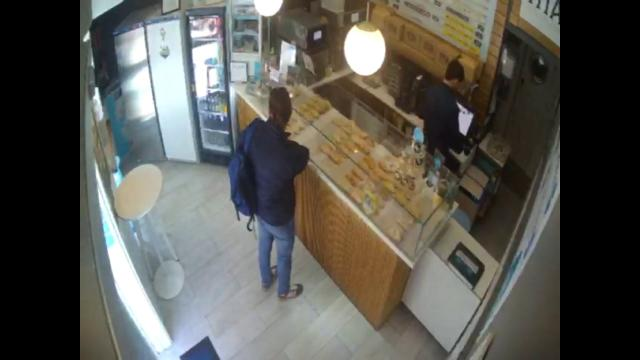cliente: (228, 87, 310, 300)
empleado: (414, 57, 470, 172)
